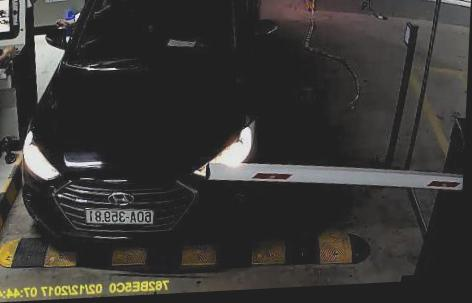License_Plate: (81, 200, 156, 228)
